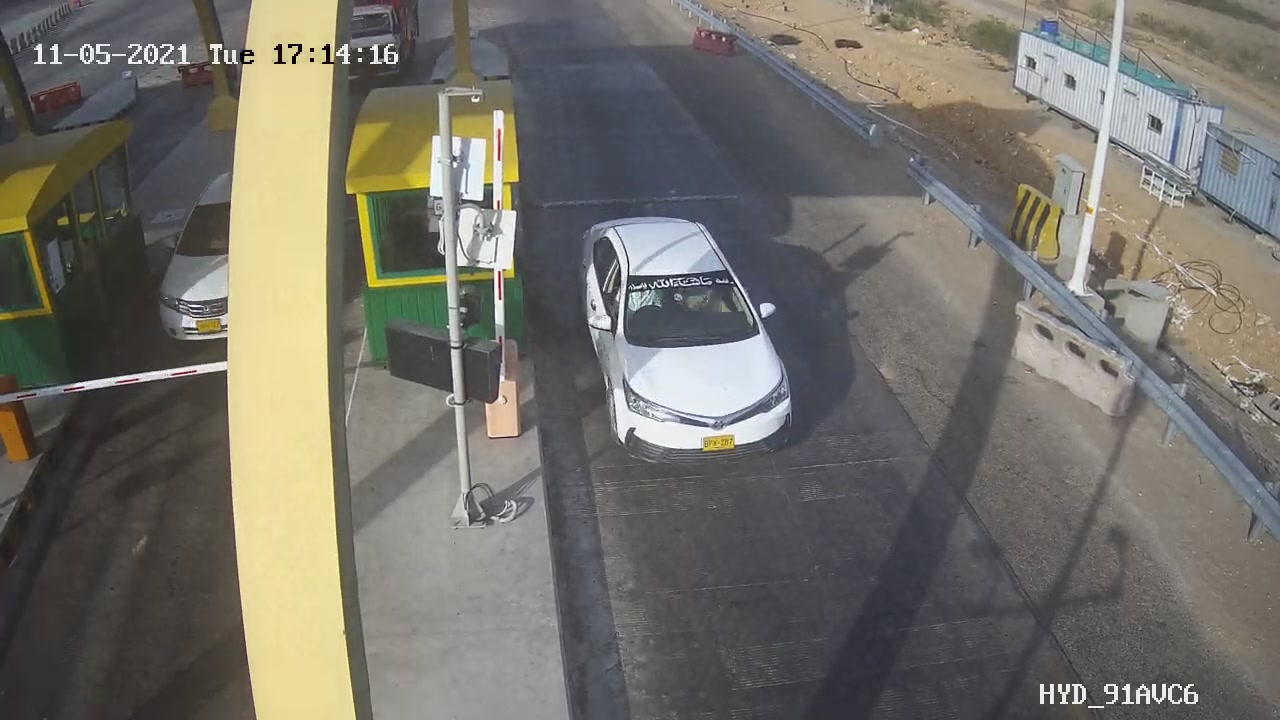F1: (555, 199, 825, 483)
